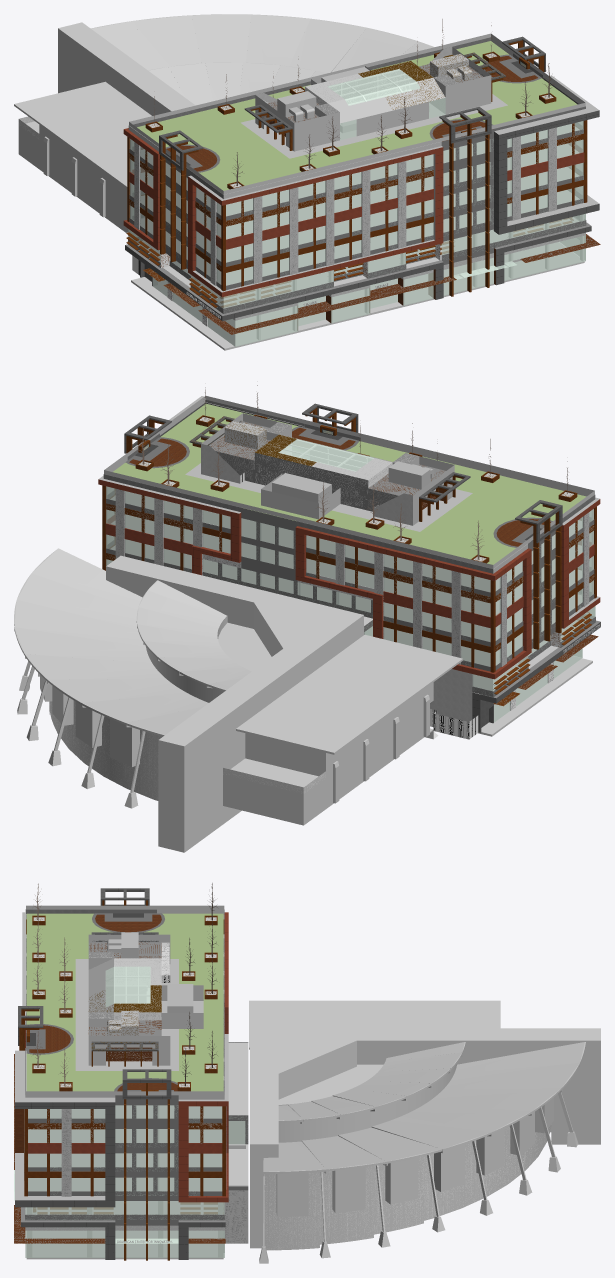
File: 1394 Innovative Office - model 38 - switchback.dae
3 renders of one model, top to bottom at view 1: azimuth 30°, elevation 25°; view 2: azimuth 150°, elevation 25°; view 3: azimuth 270°, elevation 25°, orthographic. The views are drawn at different scales.
Visible parts, largest first — view 1: group_96 (×6), group_60 (×2), group_108 (×4), Group_186, Group_30 (×9), group_16, group_94 (×2), group_63 (×3), group_62 (×3), group_98 (×4), group_58, group_1 (×2) (+20 smaller); view 2: group_96 (×8), group_60 (×2), group_94 (×3), group_16, group_108 (×4), group_98 (×7), Group_203, group_5, group_58, Group_59, Group_30 (×5), Component_19 (+25 smaller); view 3: group_60 (×2), group_96 (×8), group_102 (×6), group_16, group_95 (×6), group_94 (×3), group_108 (×4), group_98 (×7), group_62 (×3), Group_186, Component_19, group_29 (+25 smaller).
Part boxes in pixels (bbox=[...]): group_96 (×6): bbox=[91, 14, 417, 73]; group_60 (×2): bbox=[137, 41, 577, 190]; group_108 (×4): bbox=[141, 120, 579, 285]; Group_186: bbox=[131, 242, 584, 350]; Group_30 (×9): bbox=[134, 127, 556, 285]; group_16: bbox=[14, 81, 151, 188]; group_94 (×2): bbox=[58, 22, 195, 115]; group_63 (×3): bbox=[188, 146, 443, 297]; group_62 (×3): bbox=[493, 75, 599, 234]; group_98 (×4): bbox=[169, 62, 315, 105]; group_58: bbox=[129, 33, 585, 194]; group_1 (×2): bbox=[125, 244, 443, 321]; group_96 (×8): bbox=[14, 548, 208, 736]; group_60 (×2): bbox=[113, 403, 586, 564]; group_94 (×3): bbox=[158, 608, 363, 852]; group_16: bbox=[236, 634, 462, 754]; group_108 (×4): bbox=[111, 491, 581, 666]; group_98 (×7): bbox=[136, 580, 251, 685]; Group_203: bbox=[223, 707, 423, 824]; group_5: bbox=[295, 526, 531, 679]; group_58: bbox=[104, 396, 594, 568]; Group_59: bbox=[245, 682, 433, 777]; Group_30 (×5): bbox=[115, 489, 589, 664]; Component_19: bbox=[106, 555, 337, 619]; group_60 (×2): bbox=[26, 913, 223, 1091]; group_96 (×8): bbox=[263, 1042, 585, 1174]; group_102 (×6): bbox=[264, 1126, 529, 1250]; group_16: bbox=[249, 1000, 500, 1049]; group_95 (×6): bbox=[276, 1112, 534, 1216]; group_94 (×3): bbox=[250, 1028, 600, 1144]; group_108 (×4): bbox=[28, 1105, 221, 1190]; group_98 (×7): bbox=[288, 1042, 465, 1121]; group_62 (×3): bbox=[15, 1050, 115, 1207]; Group_186: bbox=[26, 1231, 223, 1259]; Component_19: bbox=[250, 1040, 278, 1170]; group_29: bbox=[278, 1040, 356, 1099].
Bounding box in the file's own units: 2608 × 3221 × 1245.
